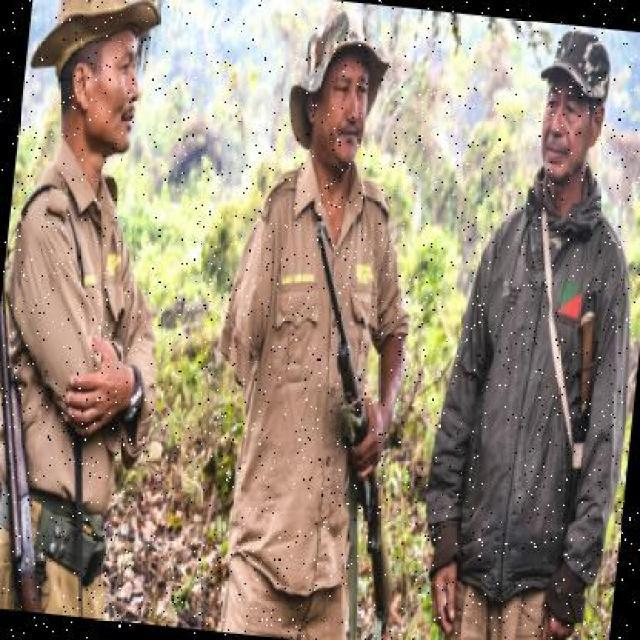ranger: (444, 46, 632, 640), (246, 5, 420, 638), (9, 1, 174, 605)
weapon: (320, 187, 374, 640)
